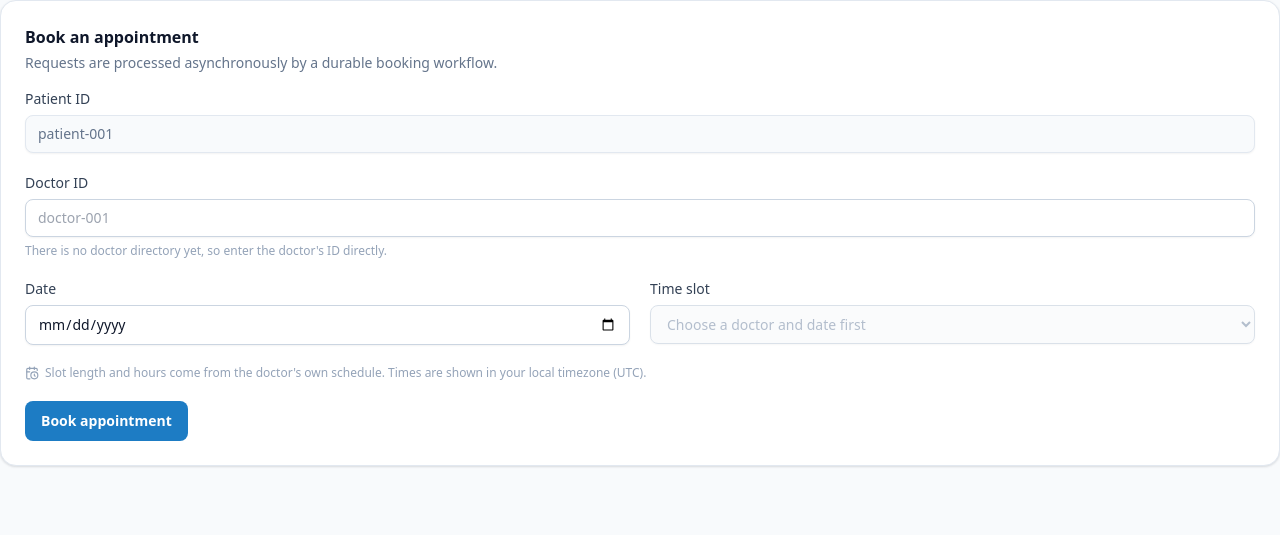
Test: BookingPage validation › rejects submission with a missing doctor ID
The width and height of the screenshot is (1280, 535).
Type "2026-08-31" into the date field labelled "Date" at (328,325), box [25,305,630,345]
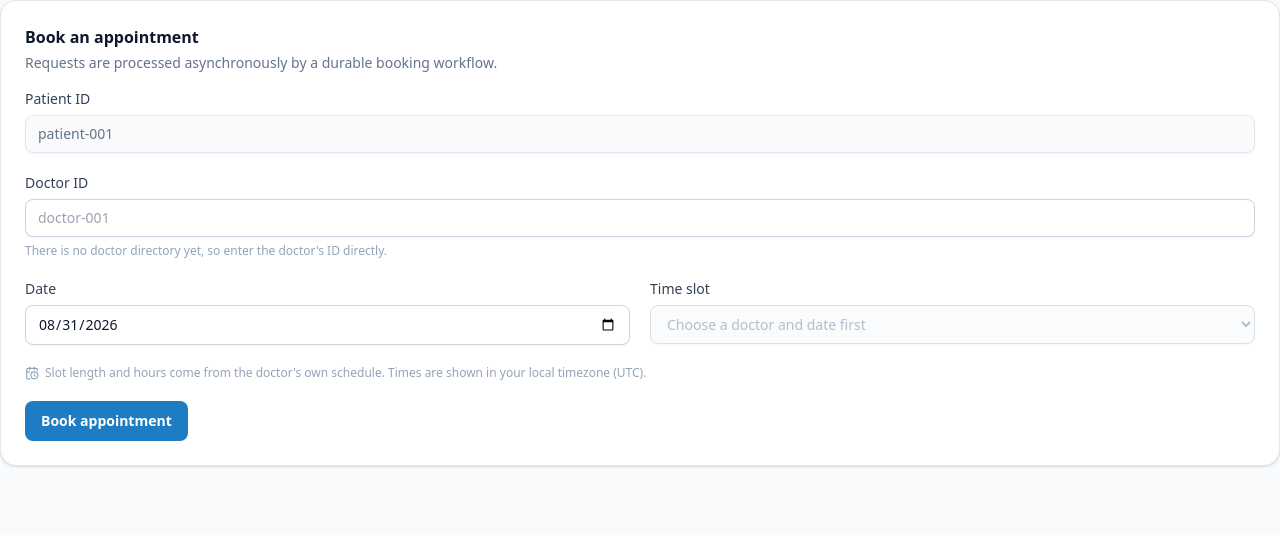
Click the button "Book appointment" at (106,421), box [25,401,188,441]
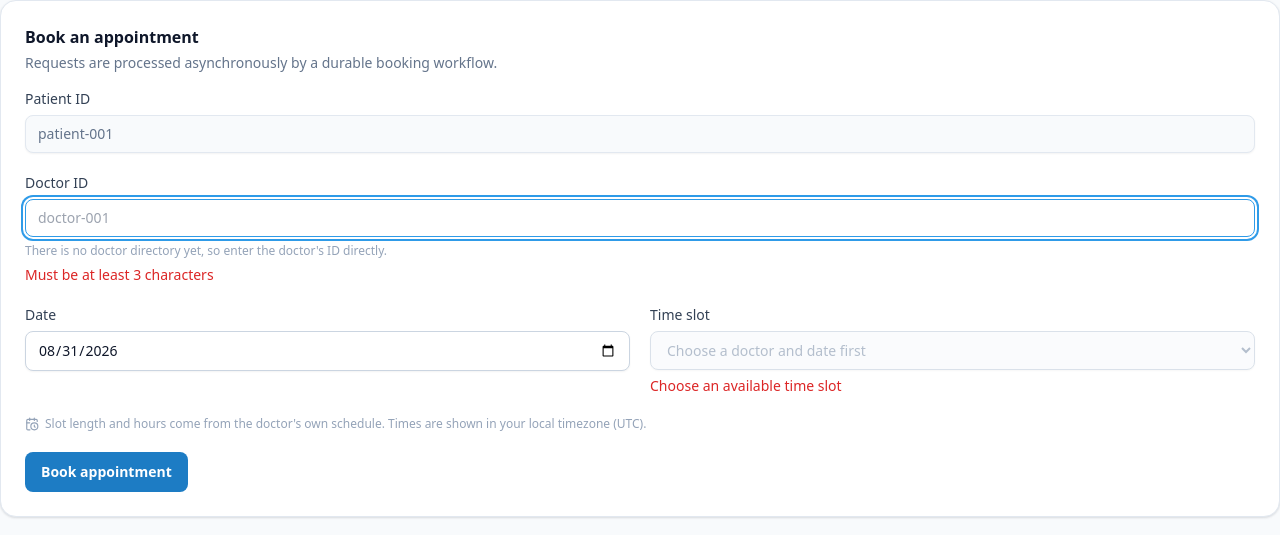
Expected: the text "Must be at least 3 characters" is shown, [25,265,214,284]
